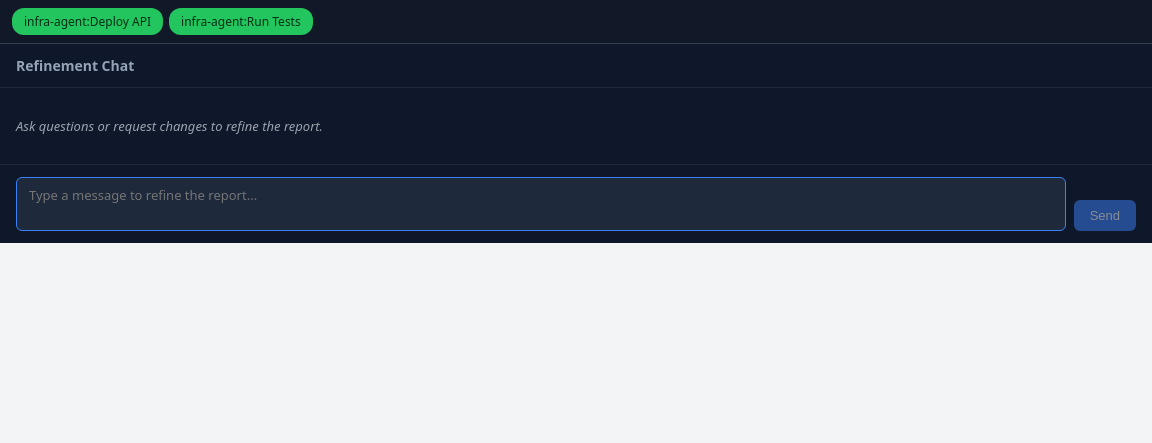
Test: ReportRightPanel — TaskPillBar + TaskDetailDrawer wiring › switches drawer to different task when different pill is clicked
// Click first task
Click the button with test id "task-pill-task-1". click: {"x": 88, "y": 22}
box: [12,8,163,35]
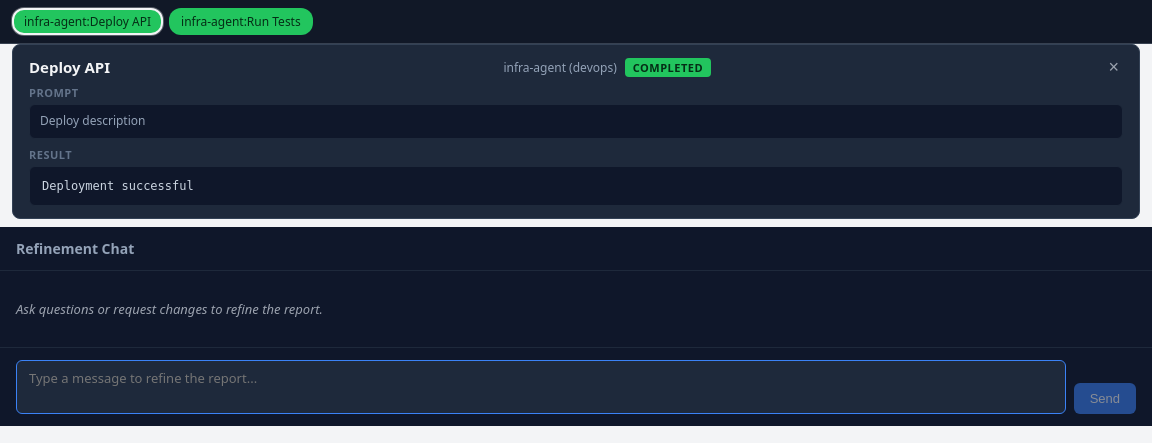
Expected: the text "Test description" is not shown
Now the text "Deploy description" is shown, box [29,104,1123,139]
// Click second task
Click the button with test id "task-pill-task-2". click: {"x": 241, "y": 22}
box: [169,8,313,35]
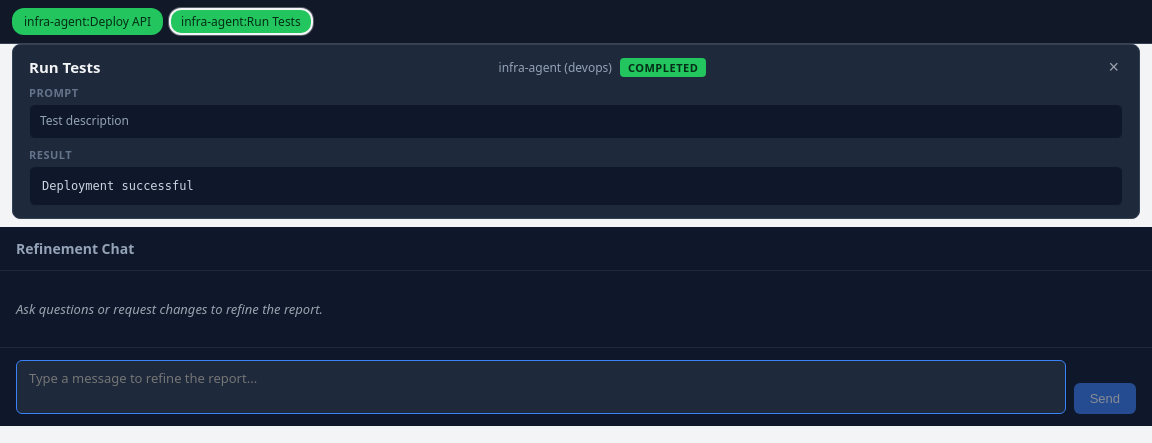
Now the text "Test description" is shown, box [29,104,1123,139]
Now the text "Deploy description" is gone
